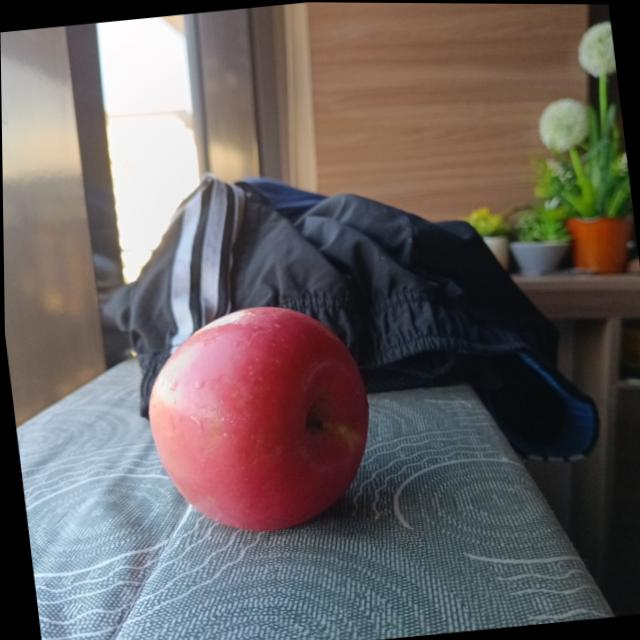apple: (136, 295, 381, 541)
